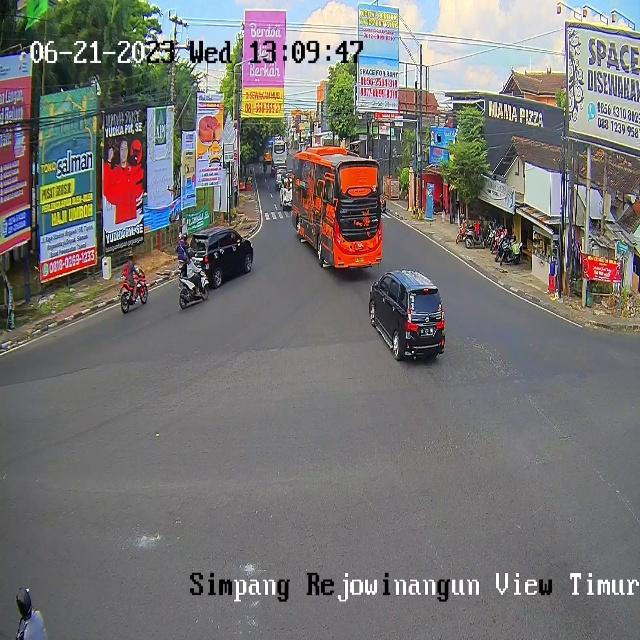bus: (120, 268, 148, 314), (180, 264, 209, 308)
car: (292, 146, 383, 269), (272, 140, 288, 172)
motorcycle: (370, 268, 446, 360), (188, 228, 254, 290), (280, 177, 292, 207), (275, 166, 288, 187)
